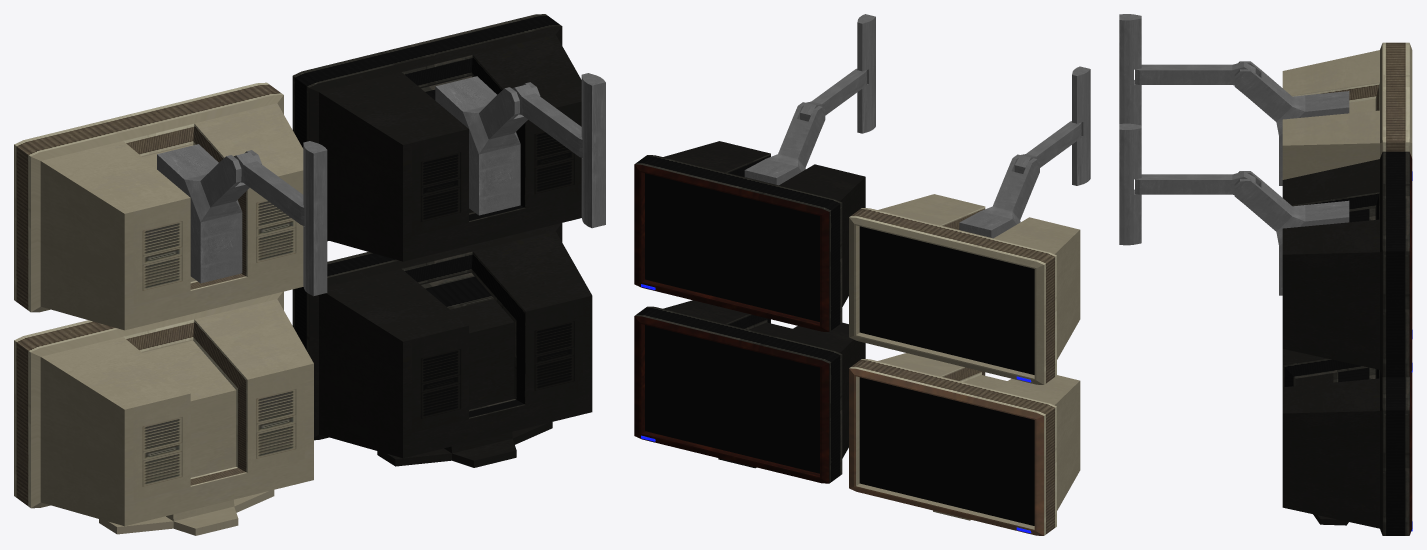
The model's file is retro_cyberpunk_computer_screens.glb.
The picture shows the model from 3 angles, left to right: view 1: azimuth 30°, elevation 25°; view 2: azimuth 150°, elevation 25°; view 3: azimuth 270°, elevation 25°; orthographic projection. The views are drawn at different scales.
Parts seen in each view (by area): view 1: Object_9, Object_7, Object_8, Object_6; view 2: Object_5, Object_7, Object_9, Object_6, Object_4, Object_8, Object_2; view 3: Object_9, Object_6, Object_7, Object_8, Object_4.
Boxes of the visible parts, x1,y1,x2,y2 form: Object_9: (292, 14, 592, 467); Object_7: (31, 95, 313, 535); Object_8: (14, 82, 304, 507); Object_6: (157, 73, 605, 296); Object_5: (645, 173, 1034, 525); Object_7: (849, 194, 1080, 529); Object_9: (635, 141, 865, 483); Object_6: (744, 14, 1090, 238); Object_4: (634, 164, 829, 483); Object_8: (849, 207, 1056, 535); Object_2: (849, 368, 1043, 535); Object_9: (1282, 151, 1409, 535); Object_6: (1119, 14, 1349, 295); Object_7: (1282, 43, 1412, 179); Object_8: (1291, 42, 1409, 151); Object_4: (1409, 152, 1412, 534).
Bounding box in the file's own units: 7.64 × 6.24 × 4.52.
Materials: 8 (6 with a texture image).
